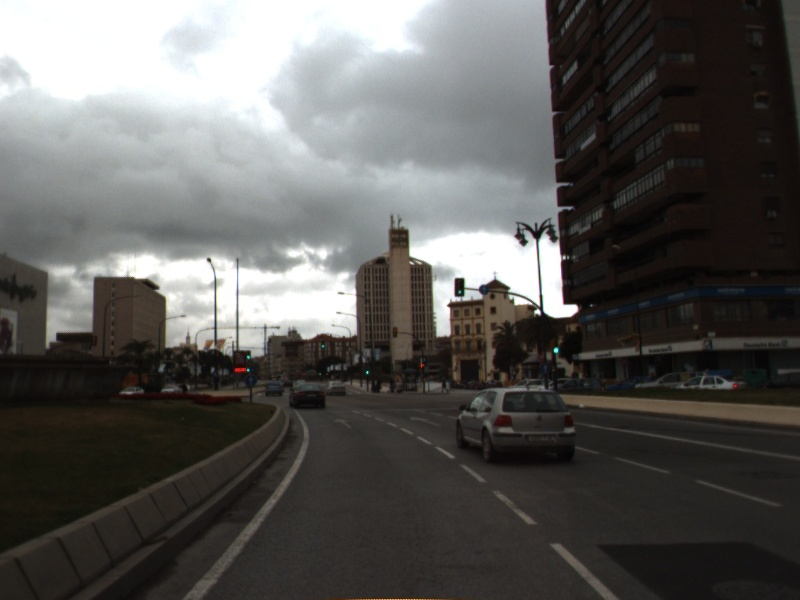STRAIGHT: (408, 413, 443, 428), (331, 416, 354, 430)
